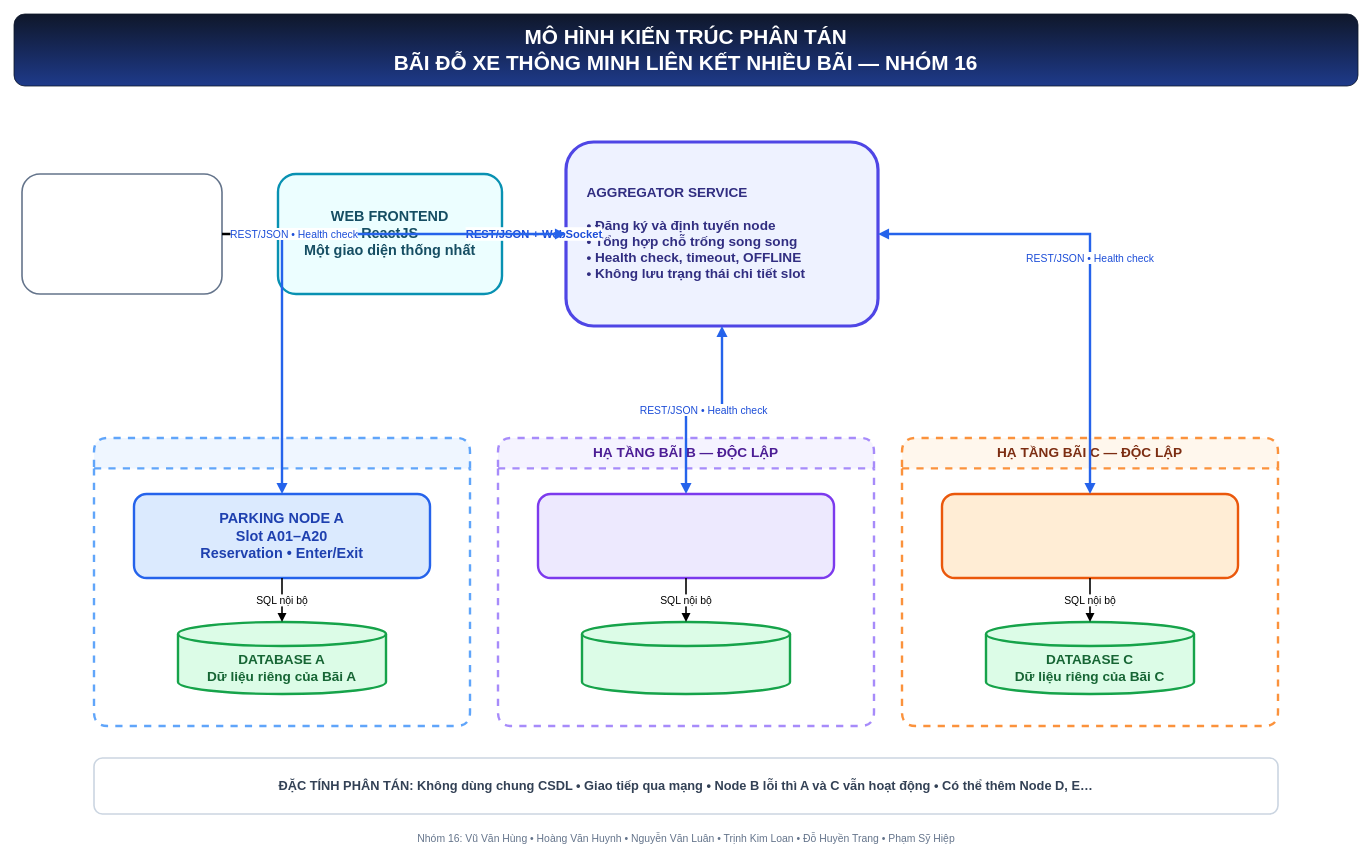
Some shapes in this 1372 by 864 pixel diagram are drawn without their labels. The box of each missing label's shape, as (x1, y1, x2, y2) in pixels:
DATABASE B Dữ liệu riêng của Bãi B: (580, 620, 791, 695)
HẠ TẦNG BÃI A — ĐỘC LẬP: (92, 436, 471, 727)
NGƯỜI SỬ DỤNG Khách hàng • Nhân viên Quản trị viên: (21, 173, 222, 294)
PARKING NODE B Slot B01–B30 Reservation • Enter/Exit: (536, 492, 835, 579)
PARKING NODE C Slot C01–C15 Reservation • Enter/Exit: (940, 492, 1239, 579)
